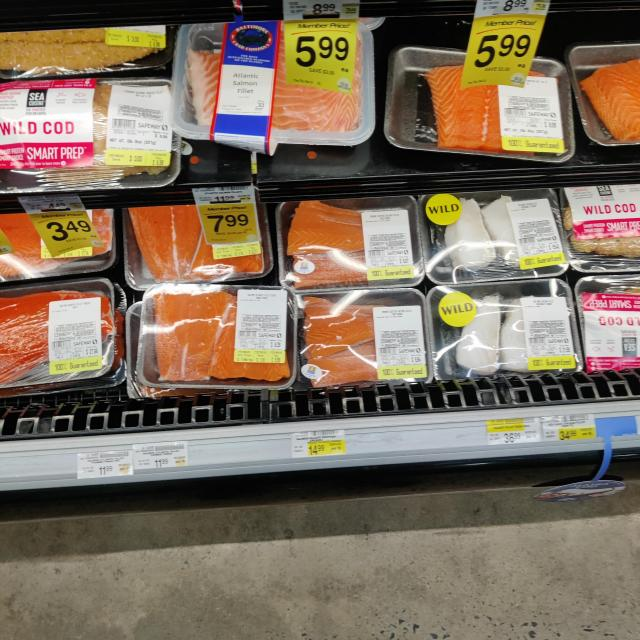Meat: (182, 26, 378, 146), (386, 48, 574, 154), (0, 82, 184, 186), (139, 284, 297, 387), (436, 281, 574, 382), (424, 193, 575, 280), (301, 289, 426, 389), (0, 279, 115, 385), (291, 197, 419, 291), (124, 210, 272, 282), (561, 186, 640, 268), (579, 278, 640, 378)
